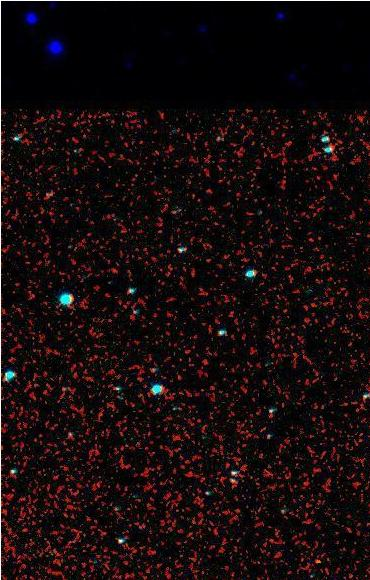star: (305, 546, 335, 576)
